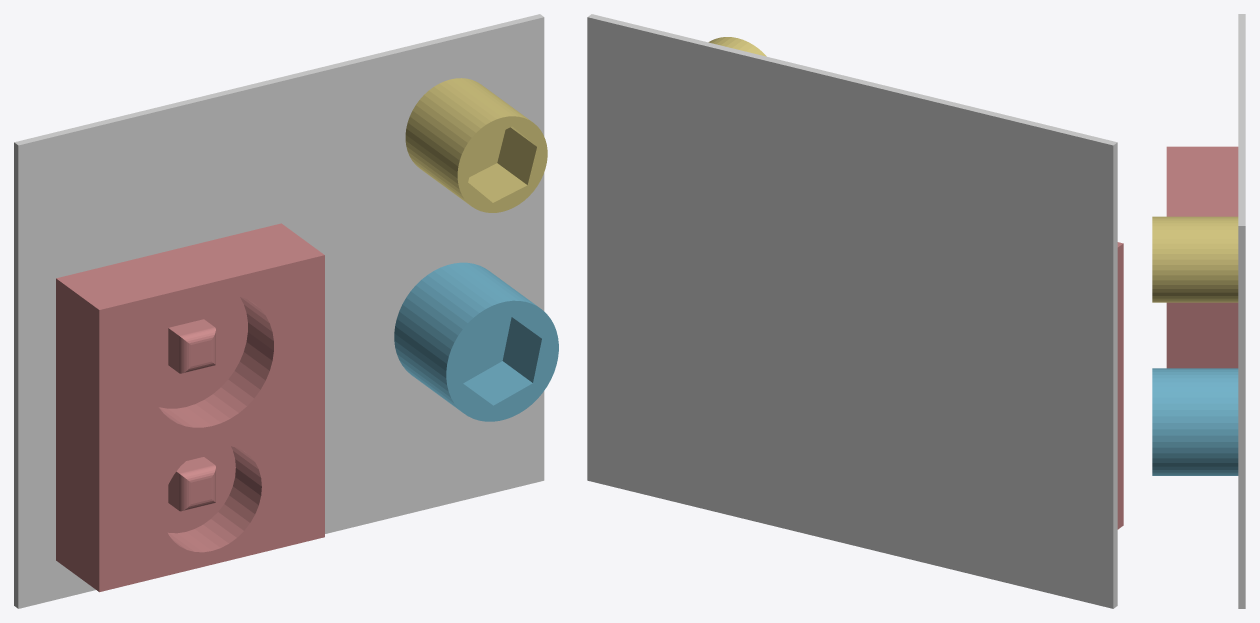
Rendered from pickup_layout.glb.
3 renders of one model, left to right at view 1: azimuth 30°, elevation 25°; view 2: azimuth 150°, elevation 25°; view 3: azimuth 270°, elevation 25°, orthographic. The views are drawn at different scales.
Visible parts, largest first — view 1: world, 0.obj, 2.obj, 1.obj; view 2: world, 0.obj; view 3: 0.obj, 2.obj, 1.obj, world.
Boxes of the visible parts, x1,y1,x2,y2 form: world: (14, 14, 544, 608); 0.obj: (56, 223, 324, 592); 2.obj: (394, 262, 558, 421); 1.obj: (405, 78, 547, 212); world: (587, 14, 1117, 608); 0.obj: (1117, 242, 1123, 529); 0.obj: (1166, 146, 1238, 368); 2.obj: (1152, 368, 1238, 475); 1.obj: (1152, 216, 1238, 302); world: (1238, 14, 1245, 608).
Bounding box in the file's own units: 14 × 11.79 × 2.6.
